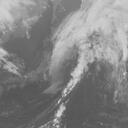cyclone: (43, 35, 91, 82)
